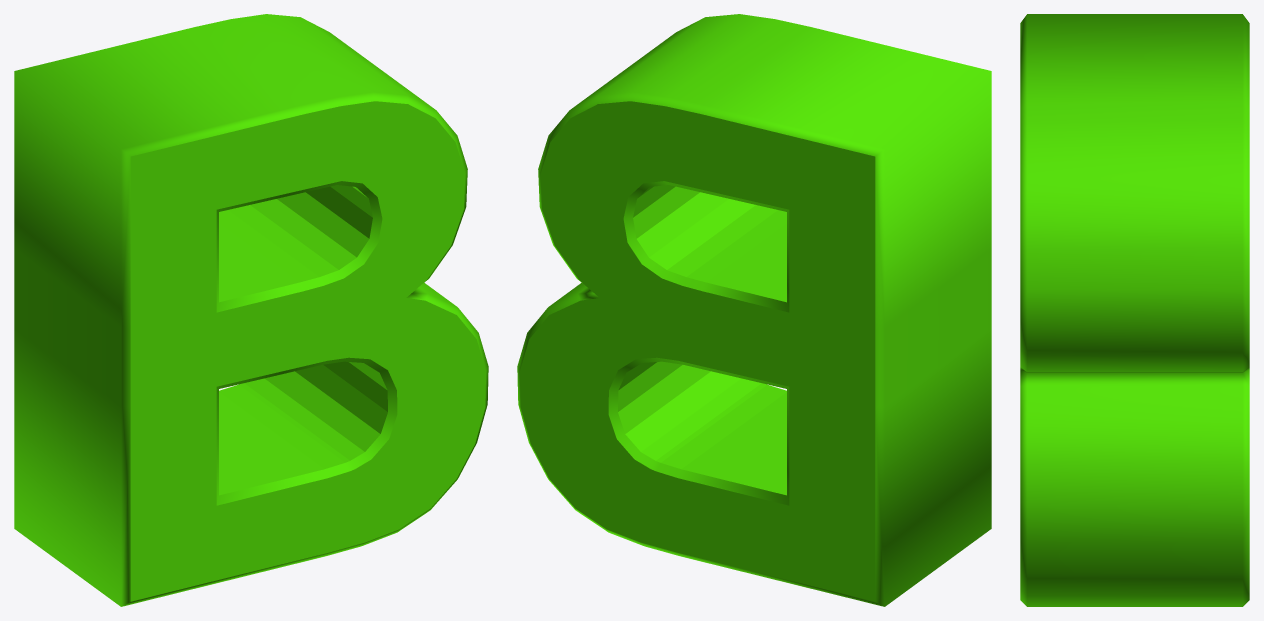
The model's file is Orn_Text_B.fbx.
3 renders of one model, left to right at view 1: azimuth 30°, elevation 25°; view 2: azimuth 150°, elevation 25°; view 3: azimuth 270°, elevation 25°, orthographic.
Parts seen in each view (by area): view 1: Orn_Text_B; view 2: Orn_Text_B; view 3: Orn_Text_B.
Part boxes in pixels (x1,y1,x2,y2): Orn_Text_B: (14, 14, 488, 606); Orn_Text_B: (517, 14, 991, 606); Orn_Text_B: (1020, 14, 1249, 606).
Size of the model in its own units: 144 by 171 by 76.95.
